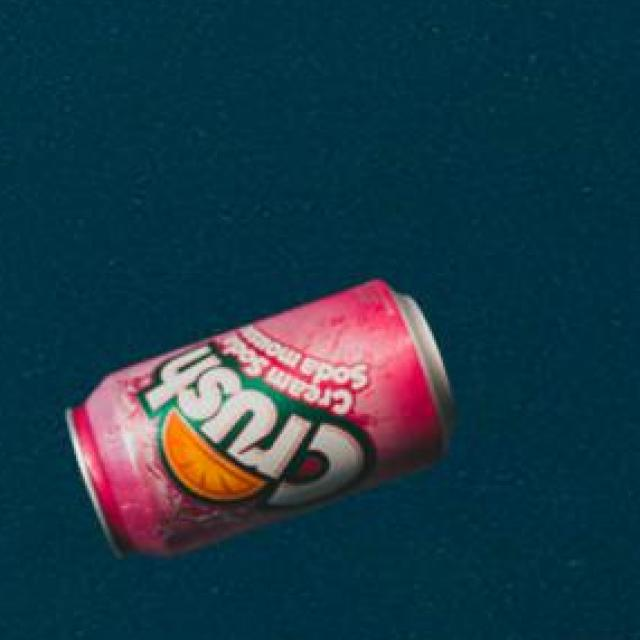logam: (62, 276, 453, 554)
